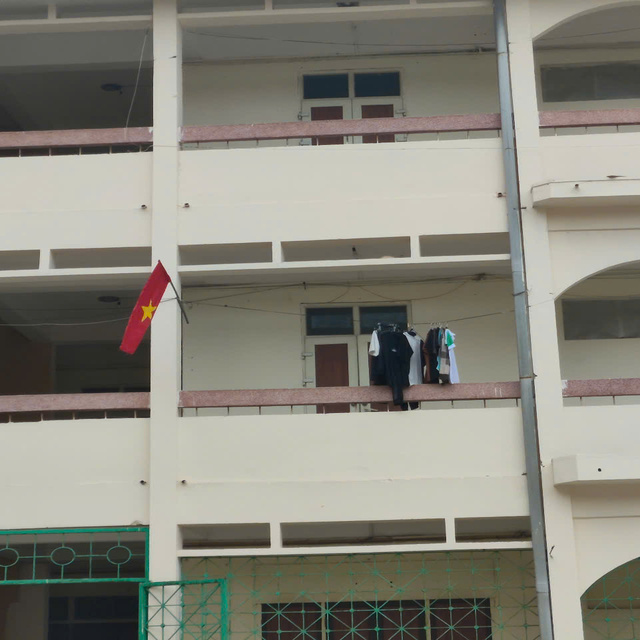laco: (121, 258, 180, 358)
